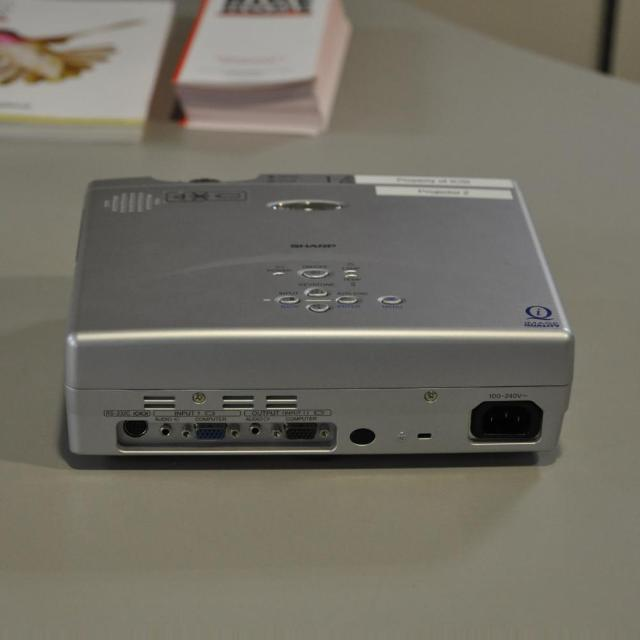Projector: (61, 172, 576, 472)
